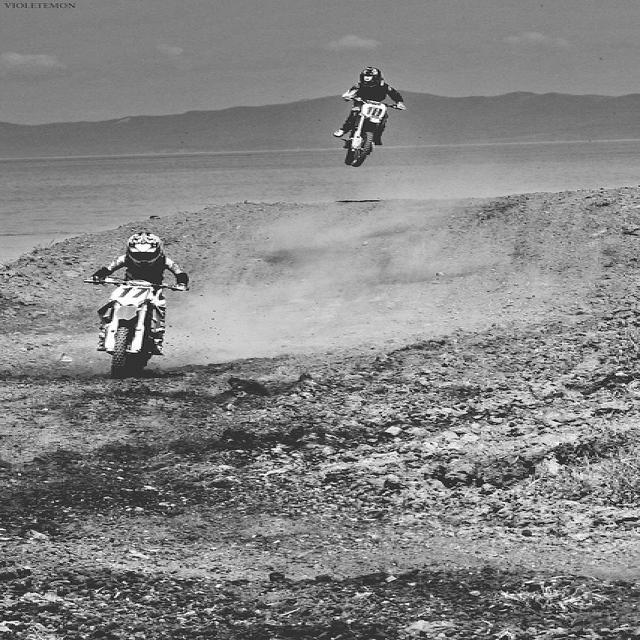motor: (78, 279, 181, 381), (346, 96, 398, 168)
